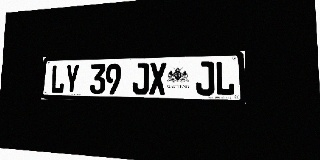3: (90, 64, 106, 94)
9: (105, 63, 121, 94)
J: (196, 61, 215, 96), (132, 63, 149, 95)
L: (215, 61, 235, 96), (50, 65, 65, 93)
X: (149, 62, 166, 95)
Y: (64, 64, 79, 94)
